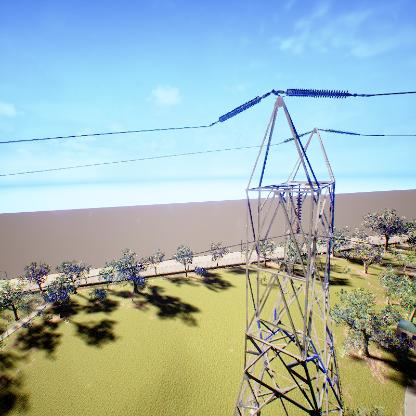insulator: (218, 95, 262, 123), (285, 87, 350, 100), (296, 191, 301, 236)
